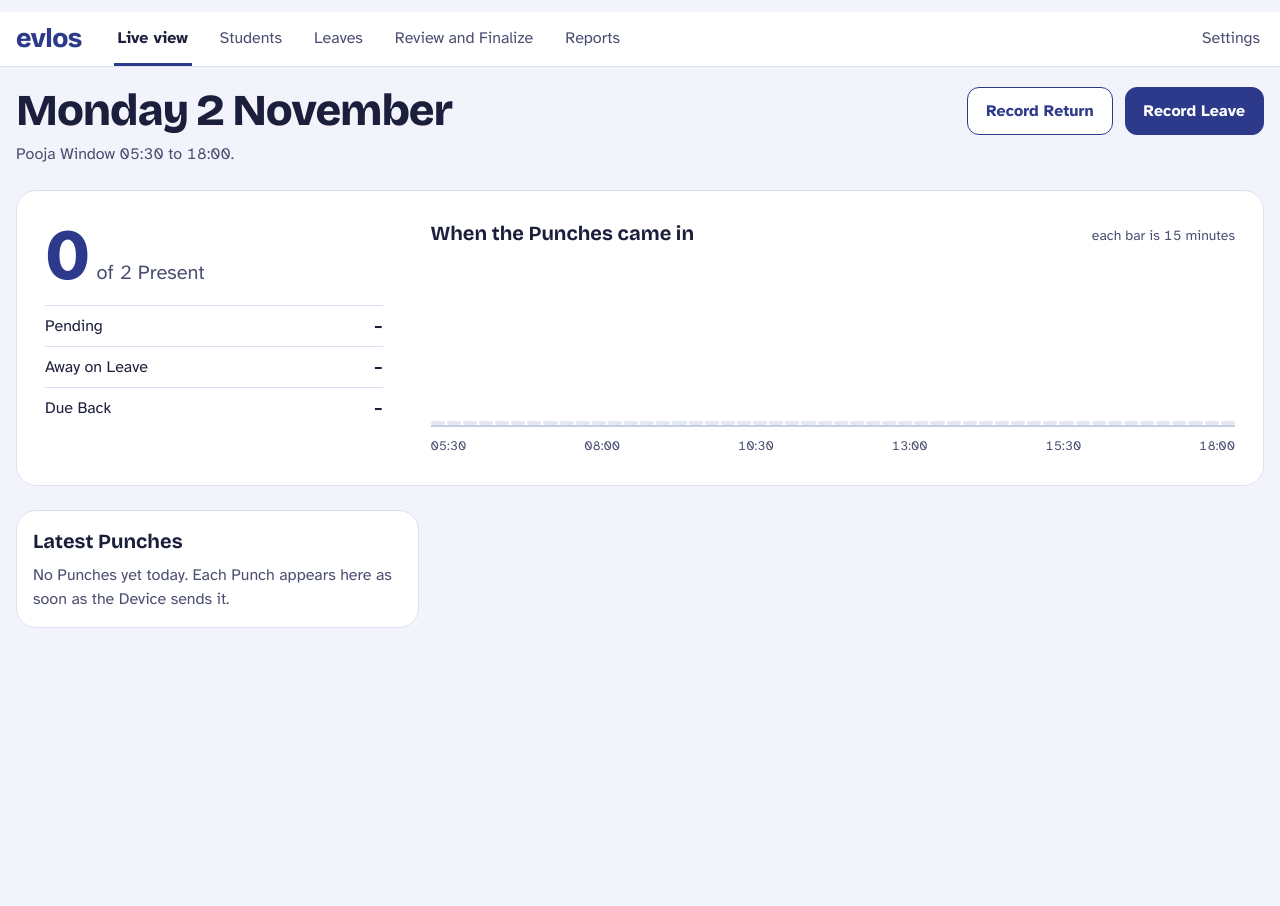
Test: menu › opens the Settings page with the Report Recipients
Expected: the text "No Punches yet" is shown, 33,564 -> 392,608
Click the button "Settings" at point(1231, 39), box 1198,12 -> 1264,66
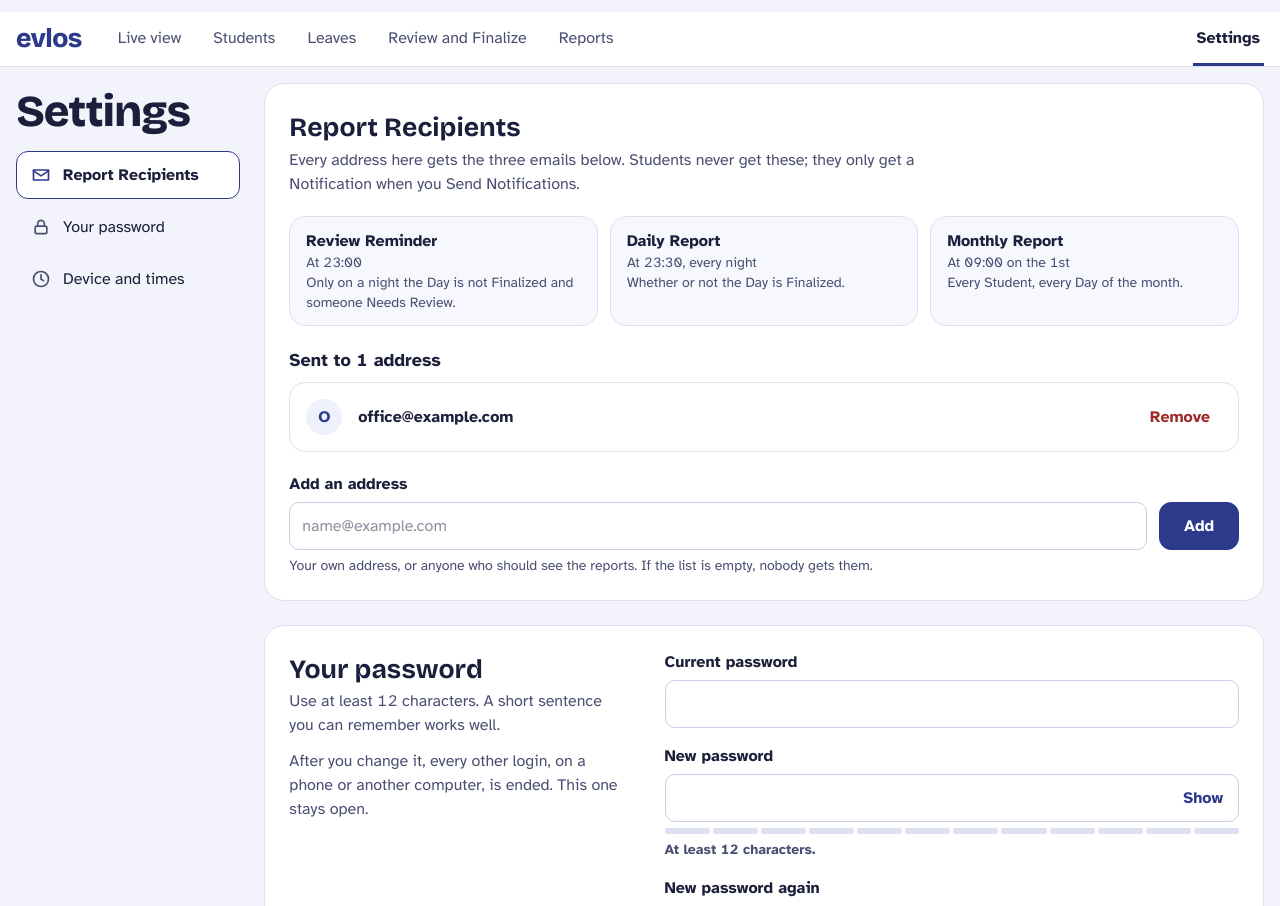
Now the text "office@example.com" is shown, box 358,407 -> 514,427
